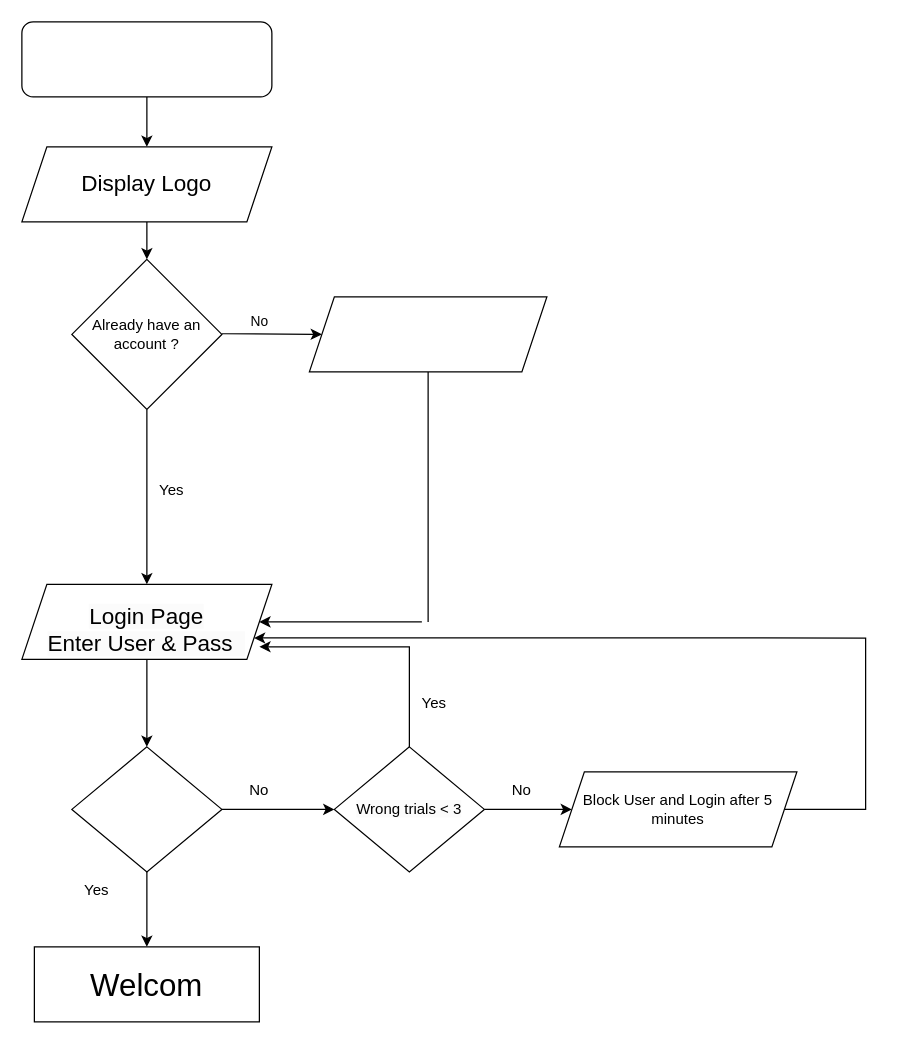
The diagram is 898 pixels wide and 1044 high, and some of its shapes have lost their labels. Each missing label, with the centre of its shape:
"Correct Pass" belongs at [146,809].
"Sign Up" belongs at [427,334].
"Start" belongs at [146,59].
